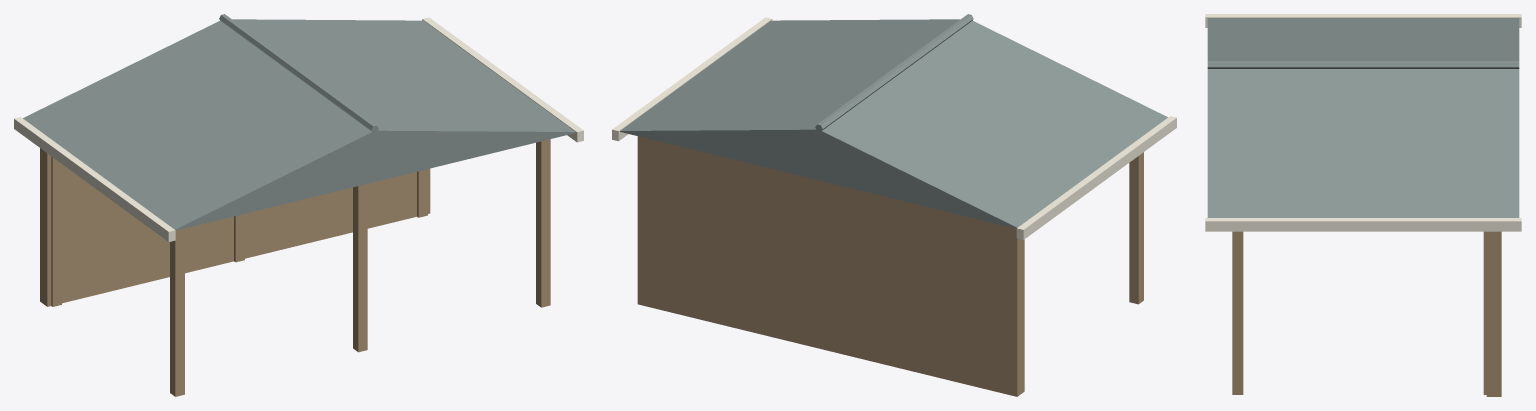
3 renders of one model, left to right at view 1: azimuth 30°, elevation 25°; view 2: azimuth 150°, elevation 25°; view 3: azimuth 270°, elevation 25°, orthographic. The views are drawn at different scales.
Size of the model in its own units: 9.76 by 5.26 by 6.3.
